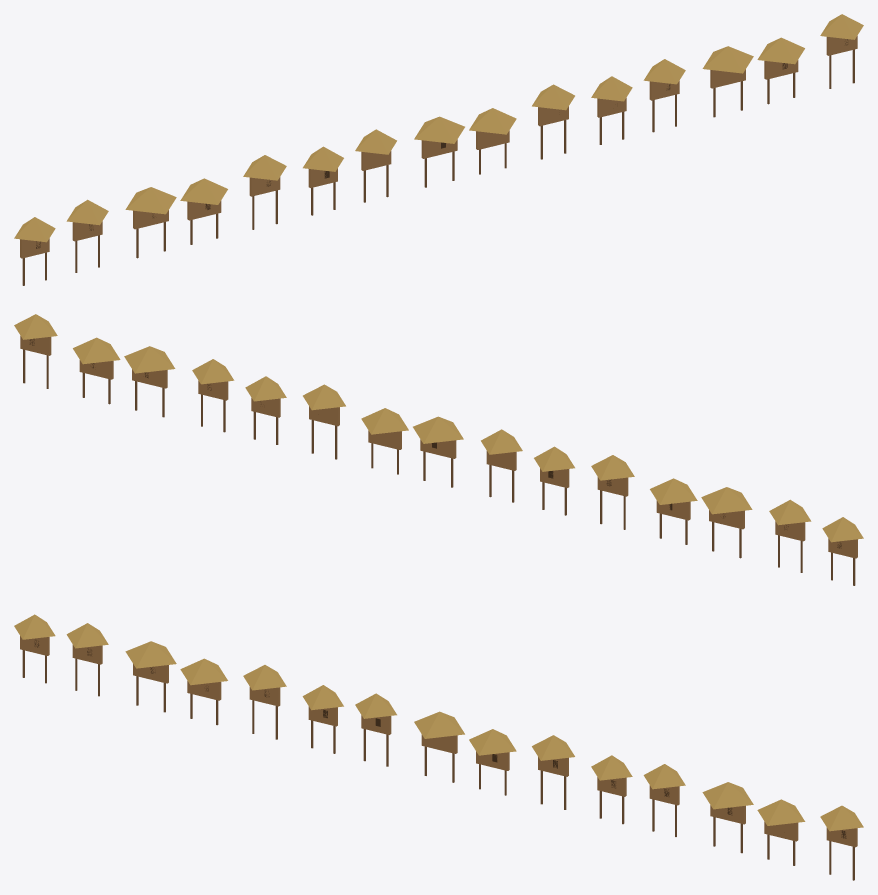
Rendered from village_mid.glb.
The picture shows the model from 3 angles, top to bottom: view 1: azimuth 30°, elevation 25°; view 2: azimuth 150°, elevation 25°; view 3: azimuth 330°, elevation 25°; orthographic projection.
Parts seen in each view (by area): view 1: Cone.006, Cone.007, Cone.008, Cone.009, Cone.010, Cone.011, Cone.012, Cone.013, Cone.014, Cone.003, Cone.004, Cone.005 (+3 smaller); view 2: Cone.006, Cone.007, Cone.008, Cone.009, Cone.010, Cone.011, Cone.012, Cone.013, Cone.014, Cone.003, Cone.004, Cone.005 (+3 smaller); view 3: Cone.006, Cone.008, Cone.007, Cone.011, Cone.009, Cone.010, Cone.013, Cone.012, Cone.014, Cone.004, Cone.003, Cone.005 (+3 smaller).
Boxes of the visible parts, box(x1,y1,x2,y2) form: Cone.006: box(125, 187, 176, 214); Cone.007: box(414, 116, 464, 143); Cone.008: box(702, 46, 753, 73); Cone.009: box(180, 178, 227, 204); Cone.010: box(469, 108, 516, 134); Cone.011: box(757, 37, 804, 64); Cone.012: box(243, 155, 286, 180); Cone.013: box(532, 84, 574, 110); Cone.014: box(820, 14, 863, 39); Cone.003: box(66, 199, 108, 225); Cone.004: box(355, 129, 396, 154); Cone.005: box(643, 59, 685, 84); Cone.006: box(701, 487, 752, 514); Cone.007: box(413, 416, 463, 443); Cone.008: box(124, 346, 175, 373); Cone.009: box(650, 478, 697, 504); Cone.010: box(361, 408, 408, 434); Cone.011: box(73, 337, 120, 364); Cone.012: box(591, 455, 634, 480); Cone.013: box(303, 384, 345, 410); Cone.014: box(14, 314, 57, 339); Cone.003: box(769, 499, 811, 525); Cone.004: box(481, 429, 522, 454); Cone.005: box(192, 359, 234, 384); Cone.006: box(125, 641, 176, 668); Cone.008: box(702, 782, 753, 809); Cone.007: box(414, 711, 464, 738); Cone.011: box(757, 799, 805, 825); Cone.009: box(180, 658, 227, 685); Cone.010: box(469, 729, 516, 755); Cone.013: box(532, 735, 574, 760); Cone.012: box(243, 665, 286, 690); Cone.014: box(820, 805, 863, 831); Cone.004: box(355, 693, 396, 718); Cone.003: box(66, 623, 108, 648); Cone.005: box(643, 764, 685, 789).
Bounding box in the file's own units: 58.92 × 4.75 × 3.57.
